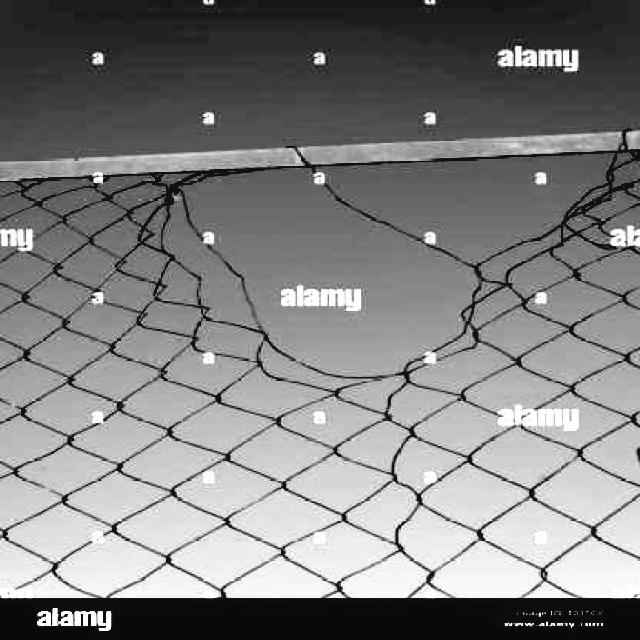anomaly-fence: (84, 125, 640, 404)
